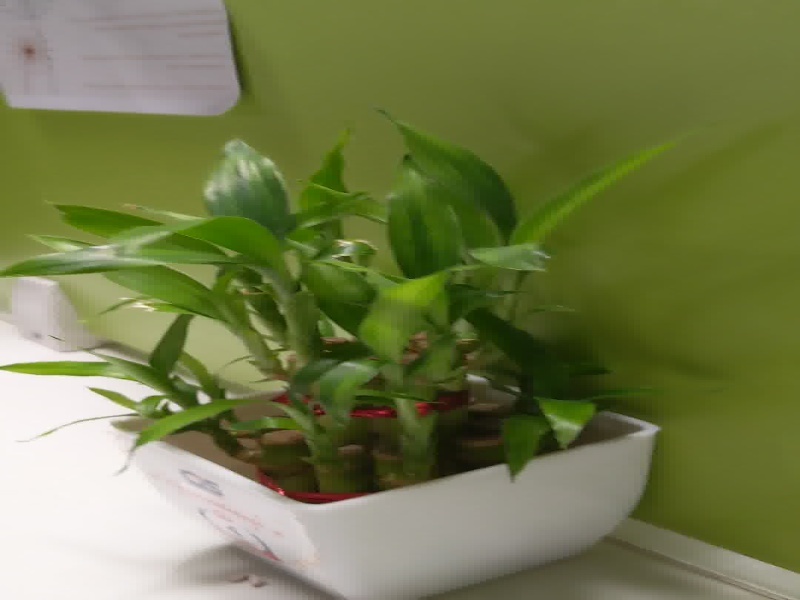bamboo: (2, 104, 678, 600)
